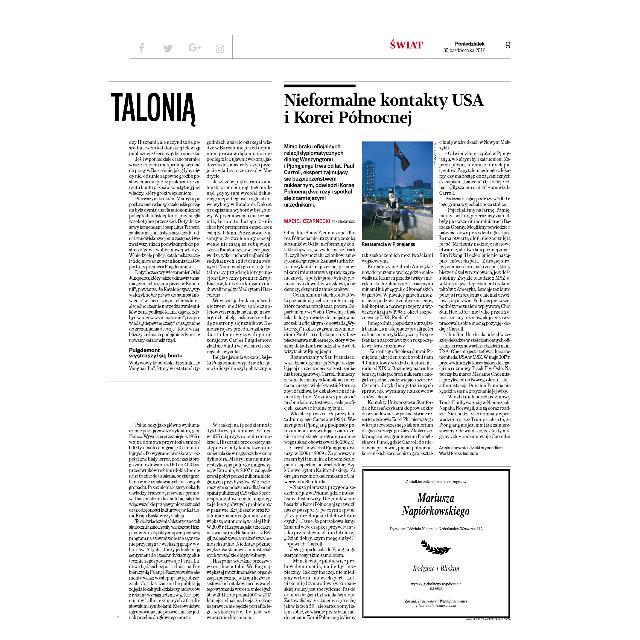article: (282, 82, 512, 622)
